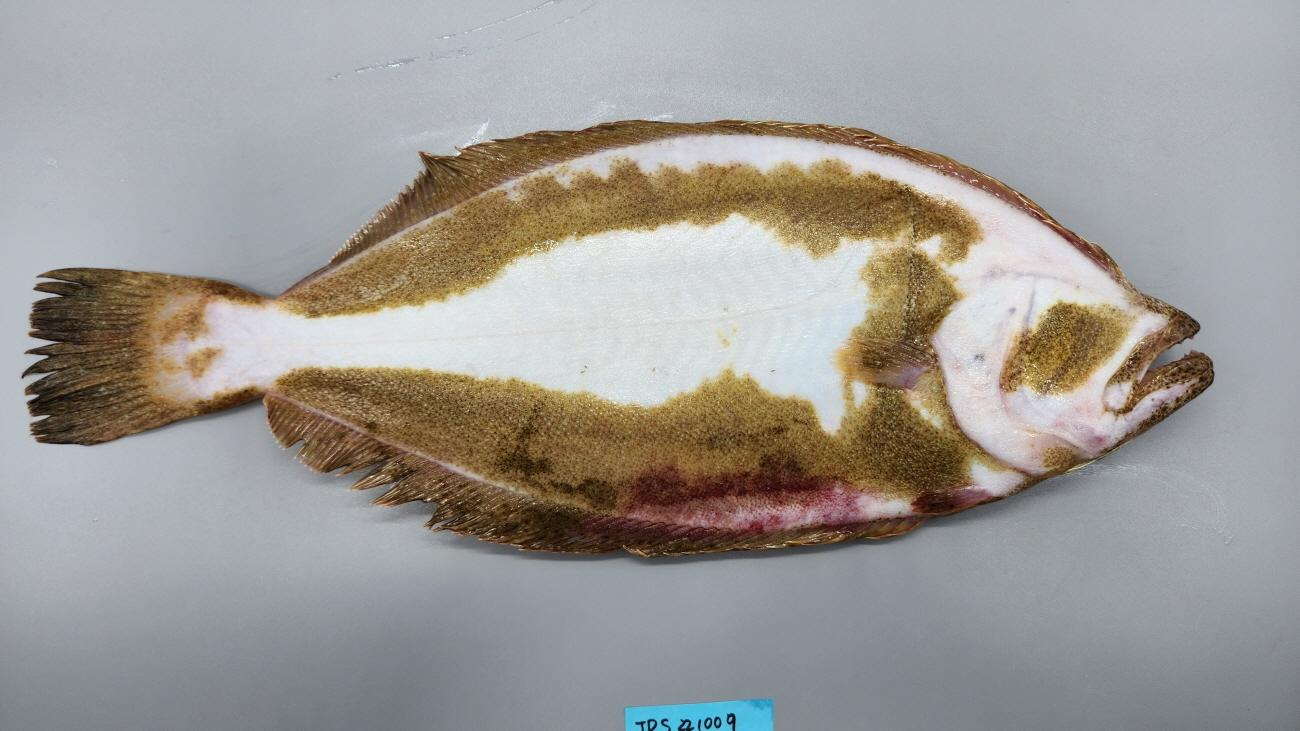POOUN: (20, 118, 1214, 562)
